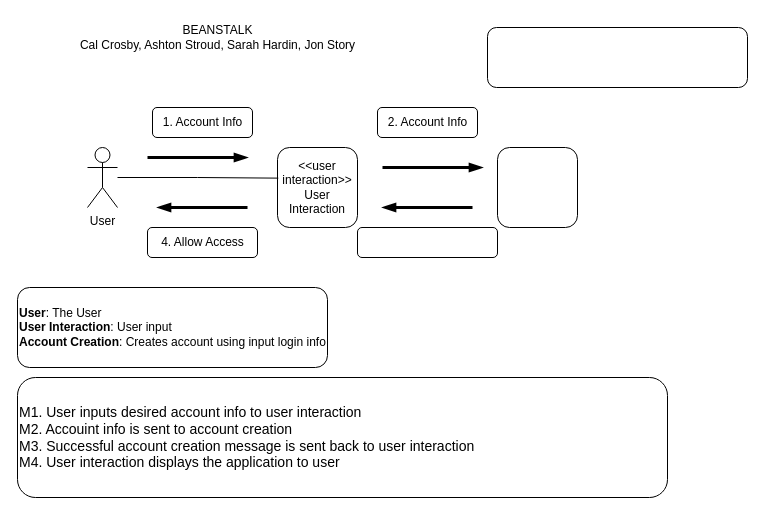
Some shapes in this 765 by 515 pixel diagram are drawn without their labels. Each missing label, with the box of its shape:
3. Successful Account: (356, 226, 498, 258)
<<entity>> Account Creation: (496, 146, 578, 228)
Login Interaction Diagram: (486, 26, 748, 88)
